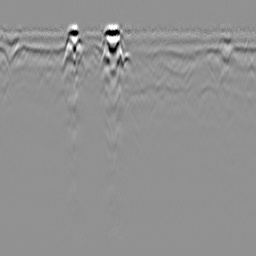cavity: (118, 50, 138, 78)
